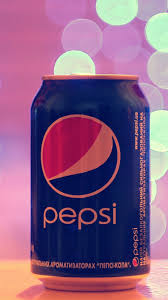pepsi: (39, 115, 123, 199), (39, 204, 120, 230)
